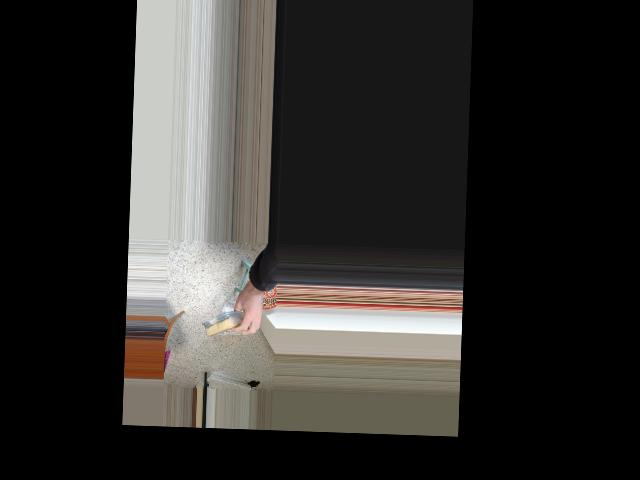cheese: (199, 307, 261, 337)
